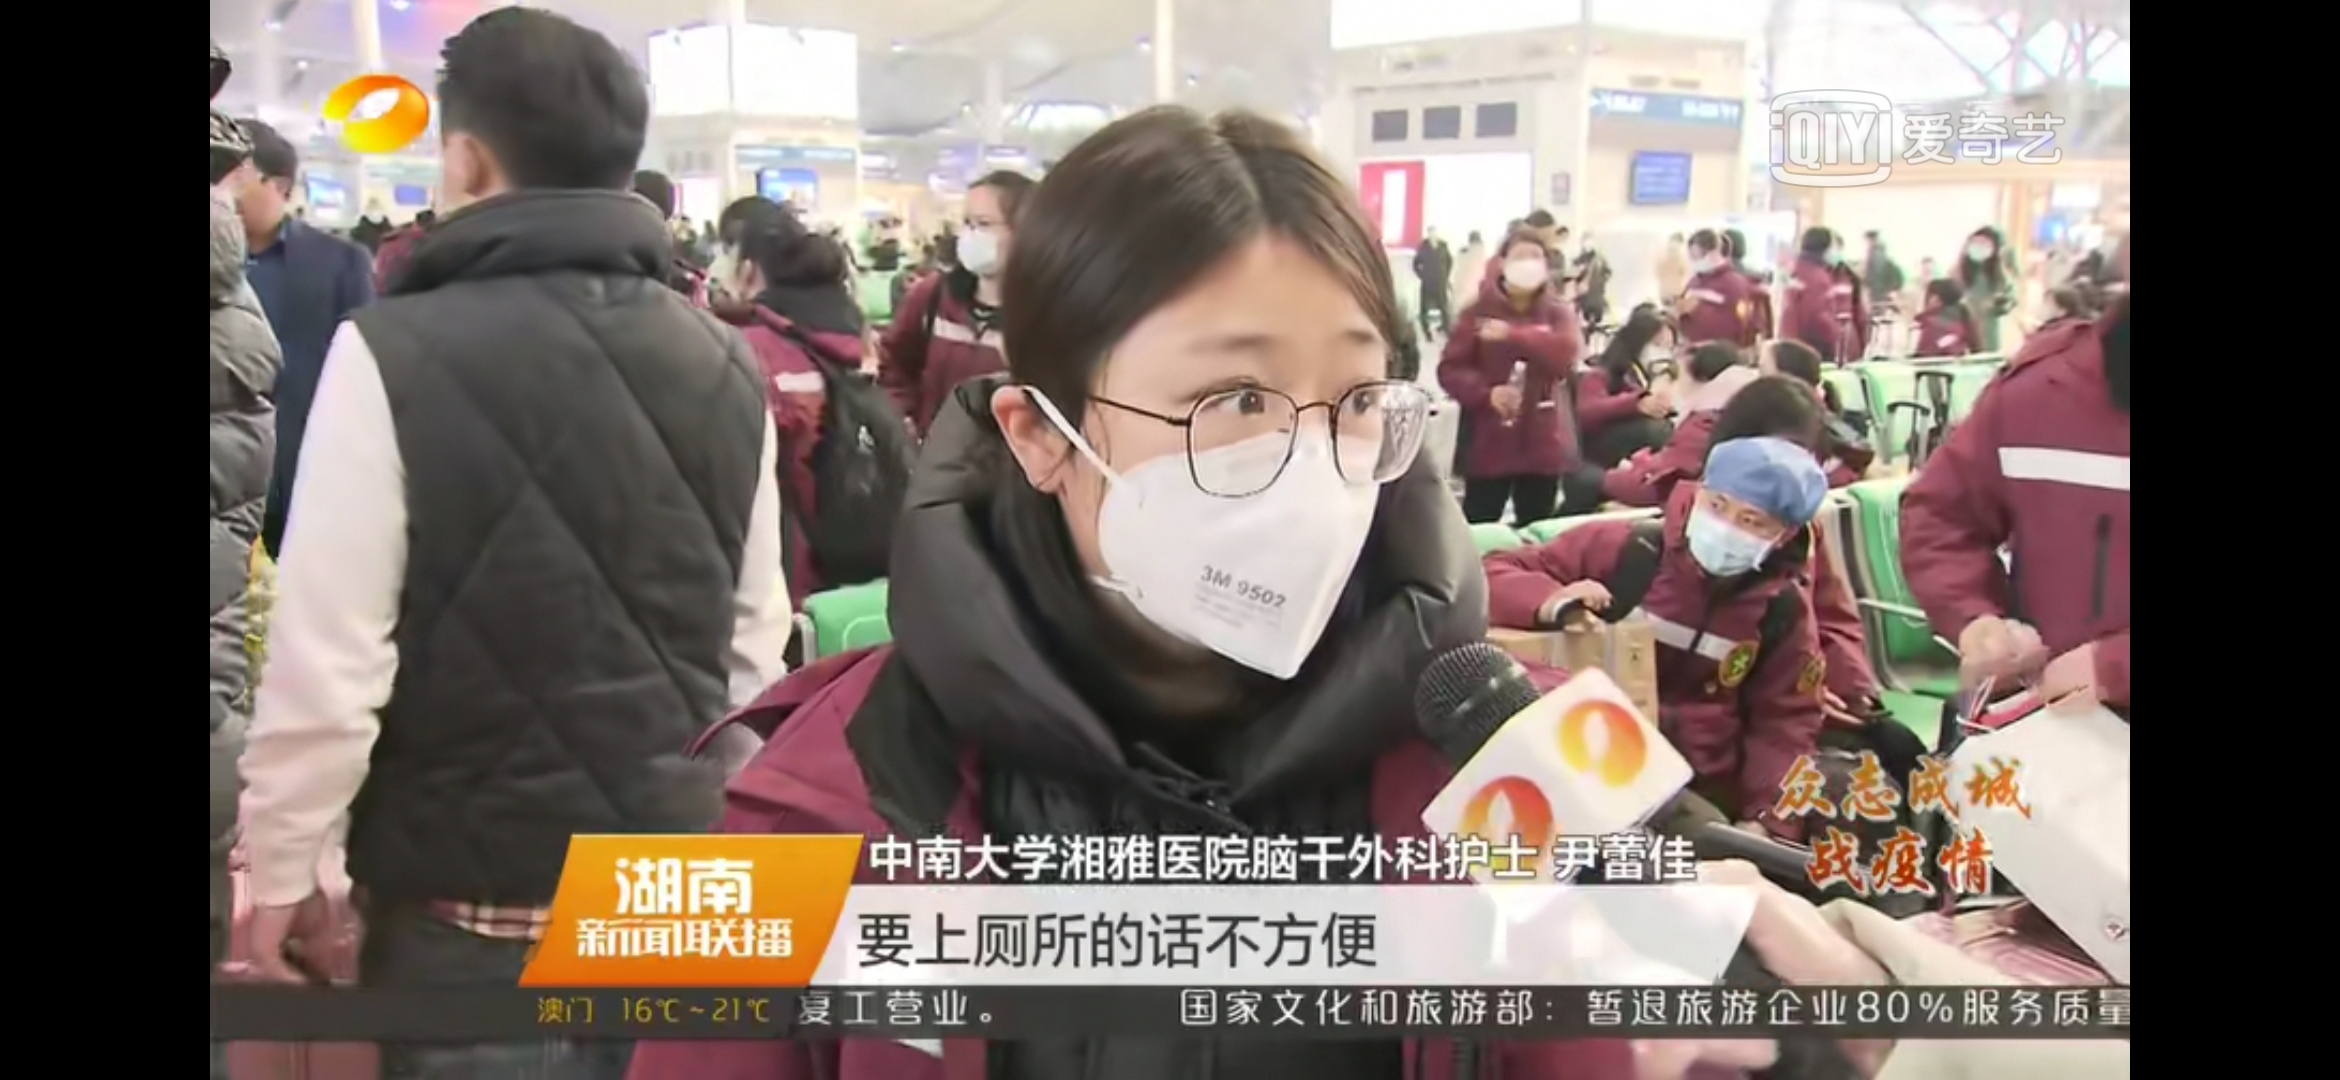correctlyWear: (991, 307, 1407, 686), (1685, 480, 1797, 591), (957, 207, 1010, 283), (1497, 245, 1554, 300), (1640, 330, 1674, 374), (1689, 243, 1721, 274), (1818, 237, 1845, 269), (1968, 236, 1992, 263)
